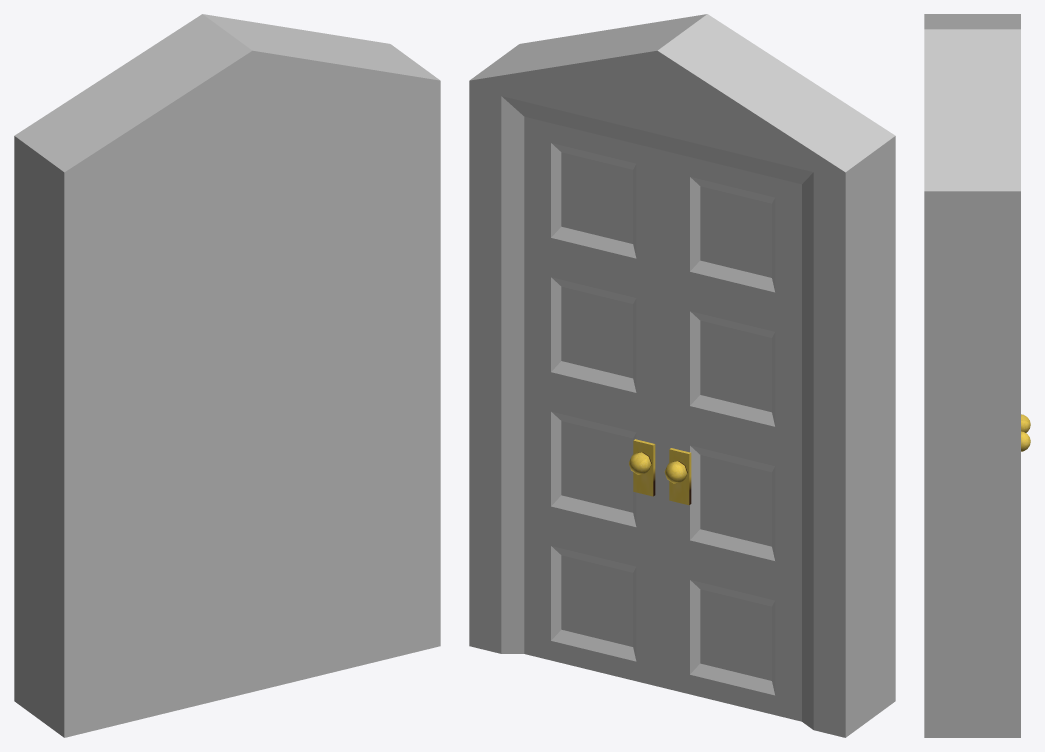
Rendered from door.fbx.
3 views of the same model, side by side, from view 1: azimuth 30°, elevation 25°; view 2: azimuth 150°, elevation 25°; view 3: azimuth 270°, elevation 25° (orthographic). The views are drawn at different scales.
Visible parts, largest first — view 1: polySurface25; view 2: polySurface25; view 3: polySurface25.
Part boxes in pixels (x1,y1,x2,y2): polySurface25: (14,14,440,737); polySurface25: (469,14,895,737); polySurface25: (924,14,1030,737).
Size of the model in its own units: 2.14 by 3.49 by 0.5435.
